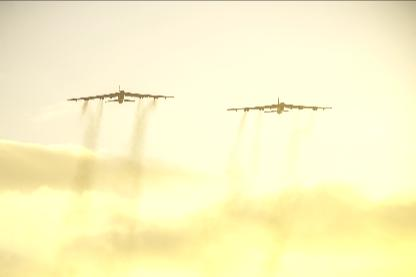B2: (68, 84, 174, 104), (228, 96, 333, 114)
